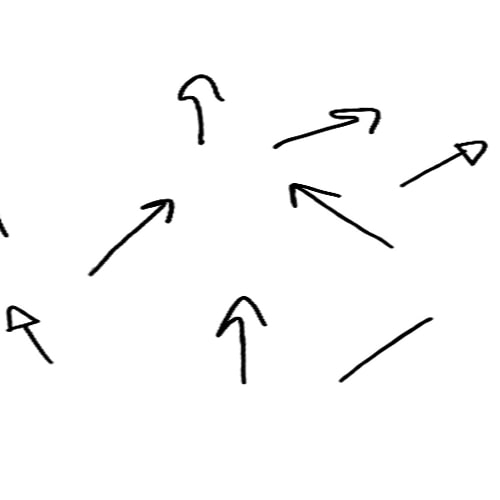arrow: (288, 182, 395, 248), (88, 196, 174, 277), (218, 291, 270, 385), (276, 105, 382, 146), (401, 141, 487, 189), (176, 75, 224, 150), (5, 303, 56, 366)
arrownohead: (342, 314, 432, 380)
